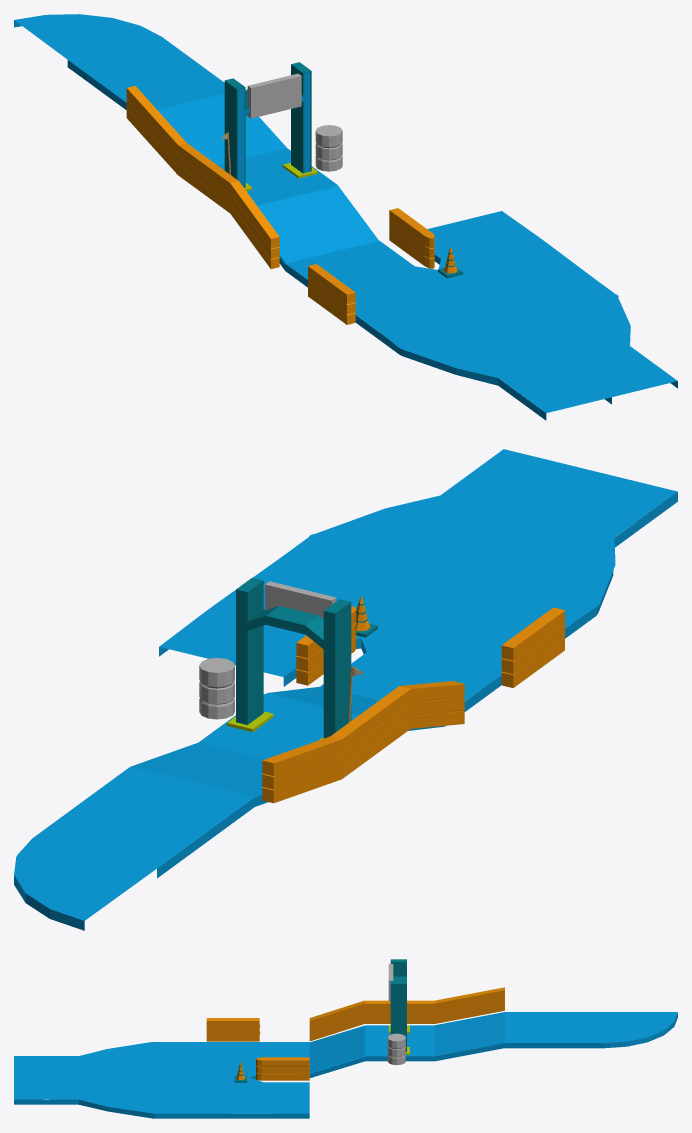
File: MiniGame_-_Corrida.fbx
3 views of the same model, one above another, from view 1: azimuth 30°, elevation 25°; view 2: azimuth 150°, elevation 25°; view 3: azimuth 270°, elevation 25° (orthographic). The views are drawn at different scales.
Parts seen in each view (by area): view 1: Pista_Bifurcação, Pista_Junta, Pista_Subindo, Pista_RetaCurta, Pista_Reta_Larga, Separador_Subindo, Arco, Pista_Curva, Placa, Separador_Com_PontaReta, Separador_Com_PontaCurva, Barriu; view 2: Pista_Junta, Pista_Bifurcação, Pista_RetaCurta, Pista_Reta_Larga, Separador_Subindo, Pista_Subindo, Arco, Pista_Curva, Separador_Com_PontaReta, Barriu, Placa, Separador_Com_PontaCurva; view 3: Pista_Bifurcação, Pista_Junta, Pista_Subindo, Separador_Subindo, Pista_RetaCurta, Pista_Reta_Larga, Pista_Curva, Separador_Com_PontaReta, Separador_Com_PontaCurva, Arco, Barriu.
Part boxes in pixels (<box>): Pista_Bifurcação: <box>285,211,597,341</box>; Pista_Junta: <box>382,281,630,385</box>; Pista_Subindo: <box>157,93,378,270</box>; Pista_RetaCurta: <box>67,36,224,109</box>; Pista_Reta_Larga: <box>498,346,677,420</box>; Separador_Subindo: <box>126,86,279,269</box>; Arco: <box>224,62,311,187</box>; Pista_Curva: <box>14,14,161,59</box>; Placa: <box>247,73,301,118</box>; Separador_Com_PontaReta: <box>307,264,355,324</box>; Separador_Com_PontaCurva: <box>389,208,434,268</box>; Barriu: <box>315,125,342,171</box>; Pista_Junta: <box>286,495,615,632</box>; Pista_Bifurcação: <box>159,553,572,726</box>; Pista_RetaCurta: <box>33,766,254,878</box>; Pista_Reta_Larga: <box>440,449,677,547</box>; Separador_Subindo: <box>262,681,464,803</box>; Pista_Subindo: <box>131,686,444,806</box>; Arco: <box>236,577,351,738</box>; Pista_Curva: <box>14,838,156,930</box>; Separador_Com_PontaReta: <box>501,607,564,687</box>; Barriu: <box>199,658,234,719</box>; Placa: <box>265,581,336,628</box>; Separador_Com_PontaCurva: <box>296,606,356,685</box>; Pista_Bifurcação: <box>179,1042,309,1118</box>; Pista_Junta: <box>79,1042,179,1118</box>; Pista_Subindo: <box>309,1012,504,1077</box>; Separador_Subindo: <box>309,987,504,1041</box>; Pista_RetaCurta: <box>504,1012,604,1048</box>; Pista_Reta_Larga: <box>14,1056,78,1104</box>; Pista_Curva: <box>604,1012,677,1048</box>; Separador_Com_PontaReta: <box>206,1018,260,1041</box>; Separador_Com_PontaCurva: <box>256,1057,309,1080</box>; Arco: <box>390,959,406,1051</box>; Barriu: <box>387,1033,405,1065</box>.
Size of the model in its own units: 1596 by 891 by 5844.
